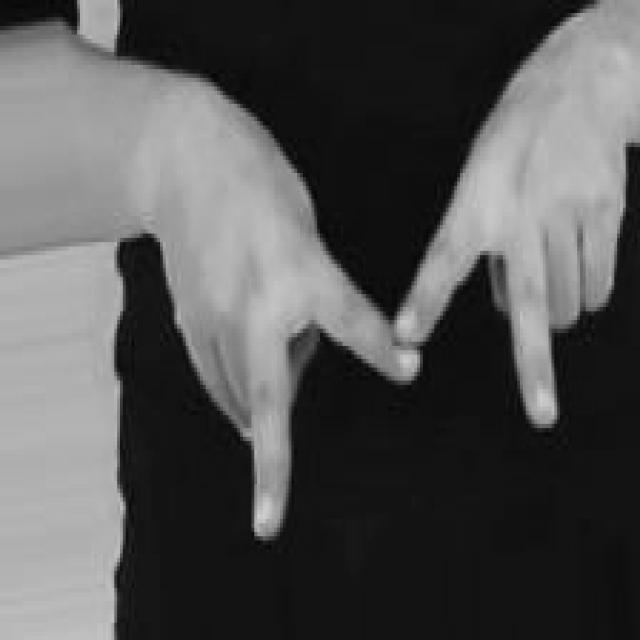M: (165, 67, 636, 557)
